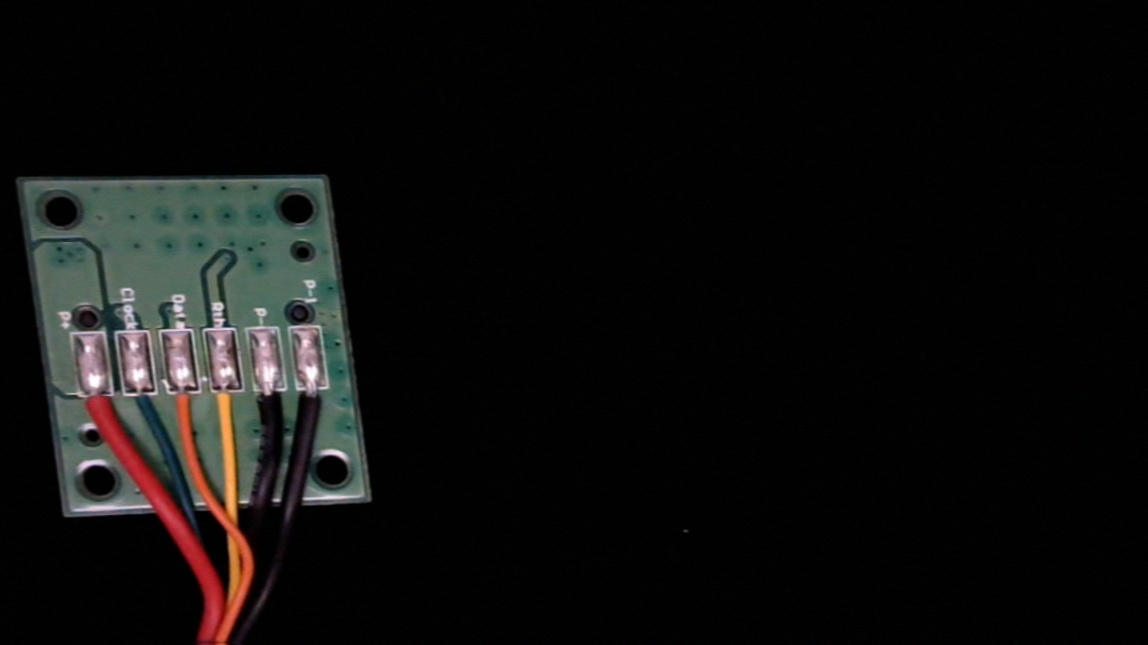Black: (251, 373, 290, 441)
Black1: (297, 373, 339, 439)
Green: (120, 377, 166, 443)
Orange: (165, 377, 208, 448)
Red: (75, 377, 120, 447)
Yellow: (205, 372, 250, 446)
